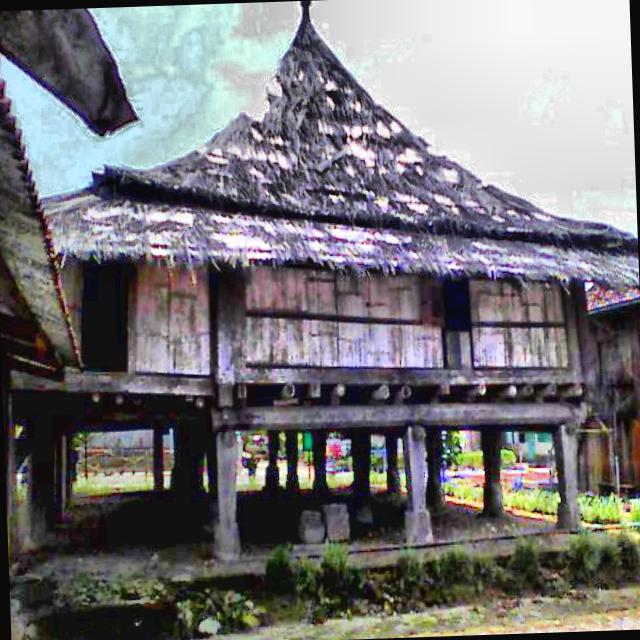column: (206, 428, 237, 561), (401, 424, 432, 543), (552, 427, 581, 531), (169, 428, 206, 499), (481, 431, 503, 514), (424, 431, 444, 506), (349, 435, 370, 506), (310, 433, 331, 501), (384, 436, 401, 496), (263, 430, 280, 489), (285, 433, 299, 489), (152, 430, 163, 490)
roof: (42, 0, 639, 285)
wall: (126, 257, 592, 383)
window: (418, 276, 469, 326)
